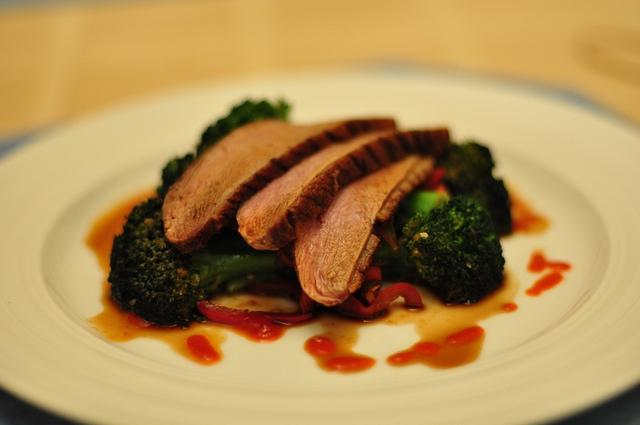broccoli: (108, 194, 298, 328), (378, 195, 506, 304), (434, 142, 512, 235), (196, 97, 290, 159), (392, 191, 450, 224)
